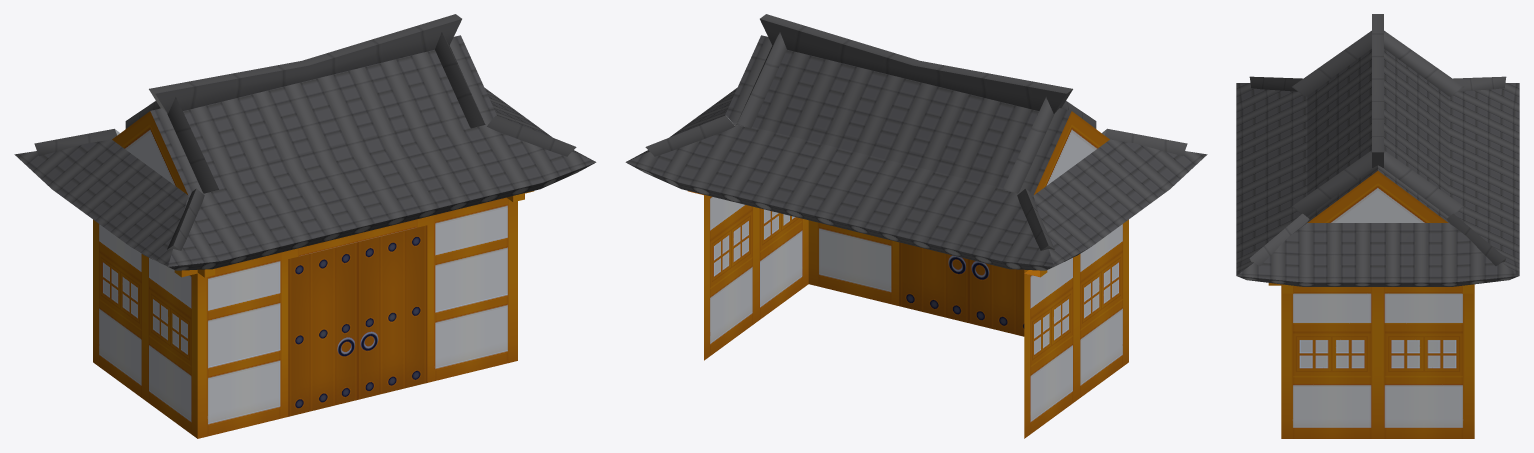
The model's file is Landmark_Bukchon_Hanok_03.fbx.
The picture shows the model from 3 angles, left to right: view 1: azimuth 30°, elevation 25°; view 2: azimuth 150°, elevation 25°; view 3: azimuth 270°, elevation 25°; orthographic projection. The views are drawn at different scales.
Visible parts, largest first — view 1: Landmark_Bukchon_Hanok_03; view 2: Landmark_Bukchon_Hanok_03; view 3: Landmark_Bukchon_Hanok_03.
Boxes of the visible parts, x1=… form: Landmark_Bukchon_Hanok_03: x1=14, y1=14, x2=596, y2=438; Landmark_Bukchon_Hanok_03: x1=625, y1=14, x2=1207, y2=438; Landmark_Bukchon_Hanok_03: x1=1236, y1=14, x2=1519, y2=438.
Size of the model in its own units: 1704 by 1168 by 1058.
